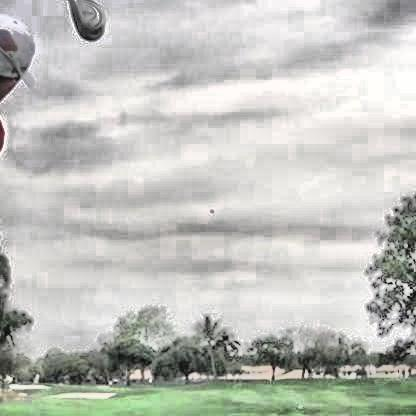golfball: (206, 206, 211, 211)
